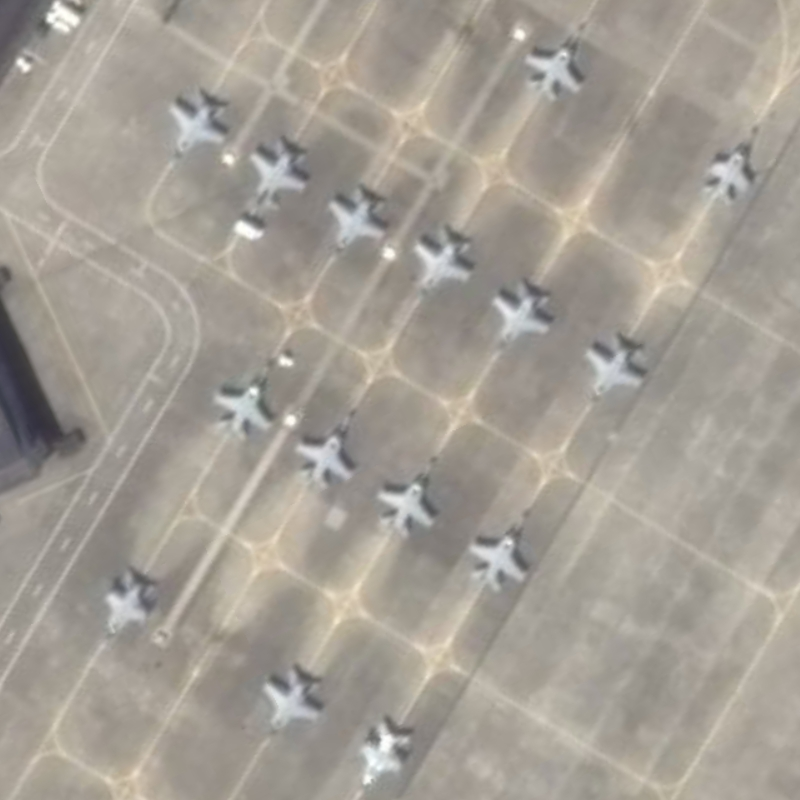A16: (249, 656, 331, 765), (319, 176, 397, 287), (461, 494, 542, 600), (231, 129, 310, 235), (483, 270, 557, 376), (404, 220, 479, 324), (574, 328, 654, 425), (159, 79, 233, 183), (510, 15, 595, 105), (204, 350, 279, 451), (293, 400, 363, 505), (90, 559, 160, 662), (376, 448, 449, 544), (345, 709, 419, 800), (692, 121, 766, 211)
